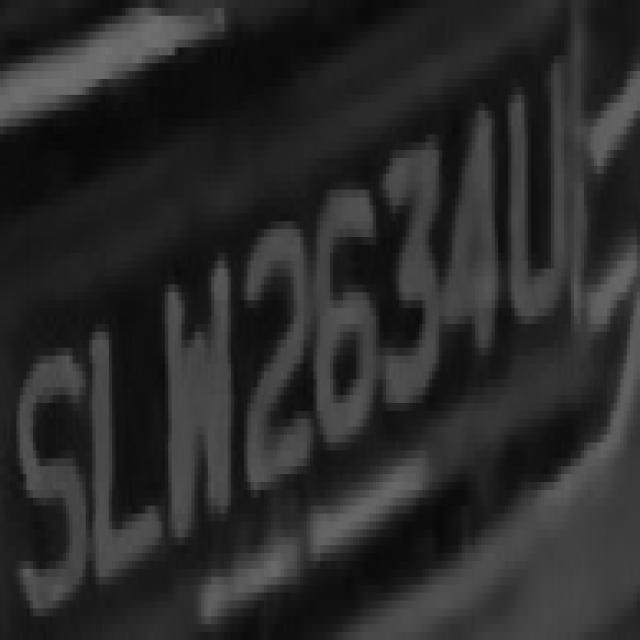2: (231, 198, 317, 530)
3: (370, 103, 442, 450)
4: (435, 55, 505, 387)
6: (310, 182, 379, 458)
L: (82, 261, 165, 624)
S: (10, 324, 82, 632)
U: (498, 55, 574, 324)
W: (155, 229, 244, 537)
